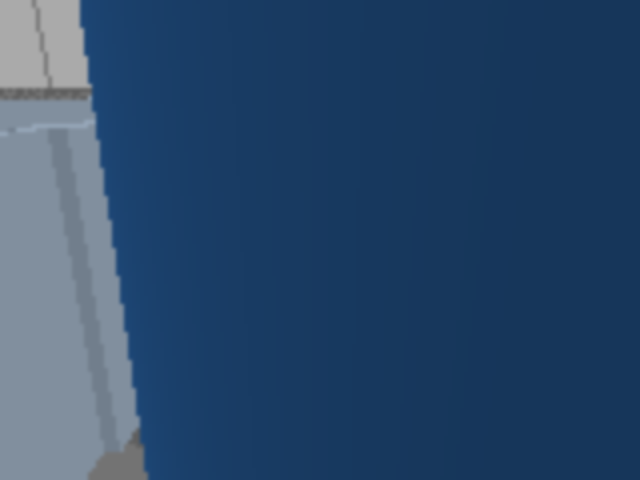goal_zone: (590, 157, 638, 165)
obstacle: (256, 133, 274, 154)
person: (518, 0, 638, 242)
